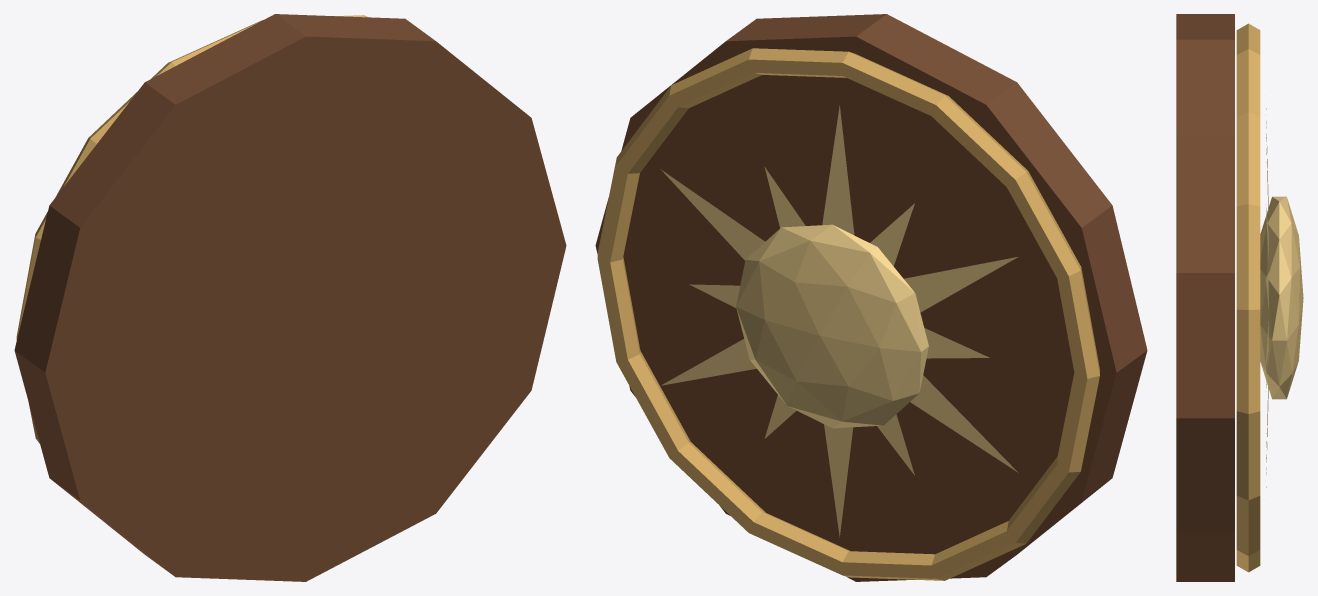
File: sun_crest.glb
3 views of the same model, side by side, from view 1: azimuth 30°, elevation 25°; view 2: azimuth 150°, elevation 25°; view 3: azimuth 270°, elevation 25° (orthographic). The views are drawn at different scales.
Visible parts, largest first — view 1: Carved plaque.001, Crest rim.001; view 2: Carved plaque.001, Crest rim.001, Sun disc, Gilded ray.018, Gilded ray.008, Gilded ray.016, Gilded ray.010, Gilded ray.014, Gilded ray.012, Gilded ray.019, Gilded ray.017, Gilded ray.009 (+1 smaller); view 3: Carved plaque.001, Crest rim.001, Sun disc.
Boxes of the visible parts, bbox=[...] form: Carved plaque.001: bbox=[14, 14, 566, 581]; Crest rim.001: bbox=[16, 15, 367, 443]; Carved plaque.001: bbox=[595, 14, 1147, 581]; Crest rim.001: bbox=[597, 48, 1099, 580]; Sun disc: bbox=[736, 224, 928, 428]; Gilded ray.018: bbox=[904, 256, 1018, 312]; Gilded ray.008: bbox=[822, 105, 854, 235]; Gilded ray.016: bbox=[910, 375, 1018, 472]; Gilded ray.010: bbox=[660, 169, 764, 260]; Gilded ray.014: bbox=[824, 424, 853, 537]; Gilded ray.012: bbox=[661, 339, 756, 385]; Gilded ray.019: bbox=[870, 203, 914, 266]; Gilded ray.017: bbox=[924, 328, 989, 358]; Gilded ray.009: bbox=[764, 167, 805, 228]; Carved plaque.001: bbox=[1176, 14, 1234, 581]; Crest rim.001: bbox=[1236, 23, 1260, 572]; Sun disc: bbox=[1260, 196, 1303, 399].
Bounding box in the file's own units: 1.66 × 1.66 × 0.37.
